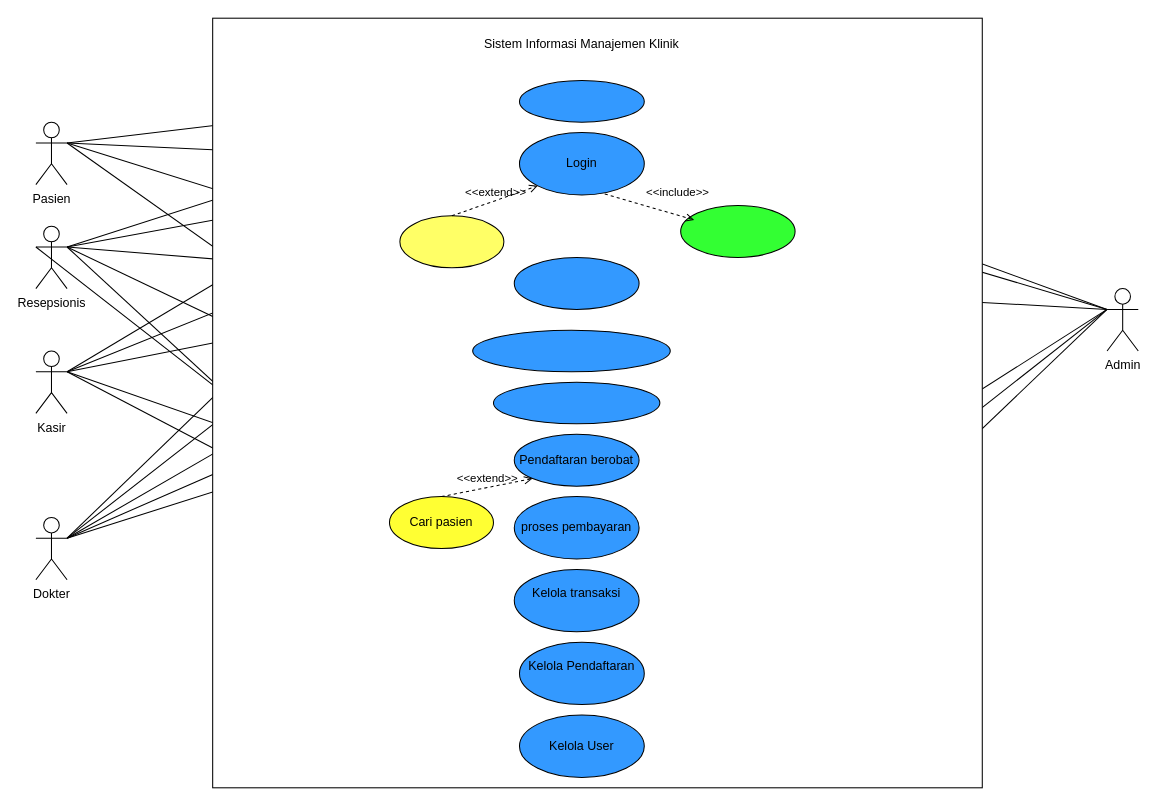
Some shapes in this 1159 by 806 pixel diagram are drawn without their labels. The shapes that lost their labels are listed below. From the top down, each one's centre as x and y in pixels, then its label:
point 581,101: Register
point 451,241: Menampilkan pesan gagal
point 737,230: Dashboard
point 576,282: Logout
point 571,350: Input riwayat rekam medis
point 576,402: Lihat riwayat rekam medis
